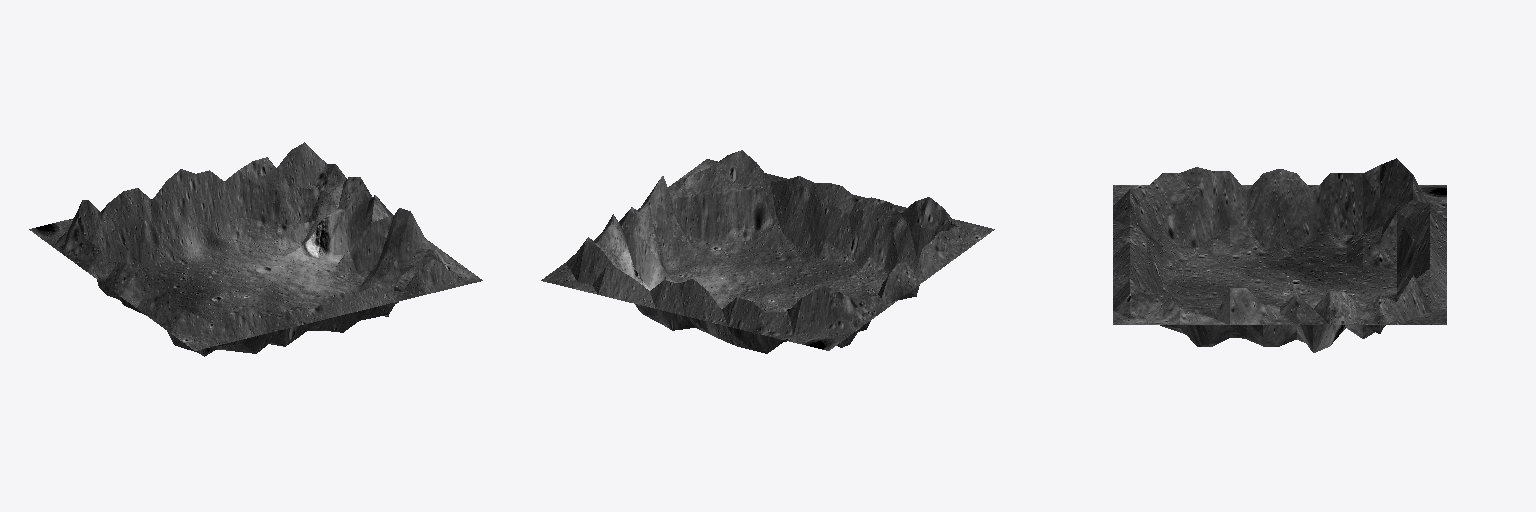
The picture shows the model from 3 angles: view 1: azimuth 30°, elevation 25°; view 2: azimuth 150°, elevation 25°; view 3: azimuth 270°, elevation 25°; orthographic projection.
Parts seen in each view (by area): view 1: pPlane1; view 2: pPlane1; view 3: pPlane1.
Boxes of the visible parts, <box> form: pPlane1: <box>29,142,482,356</box>; pPlane1: <box>541,150,994,353</box>; pPlane1: <box>1113,158,1446,352</box>.
Bounding box in the file's own units: 33.11 × 9.05 × 33.11.
Materials: 1 (1 with a texture image).